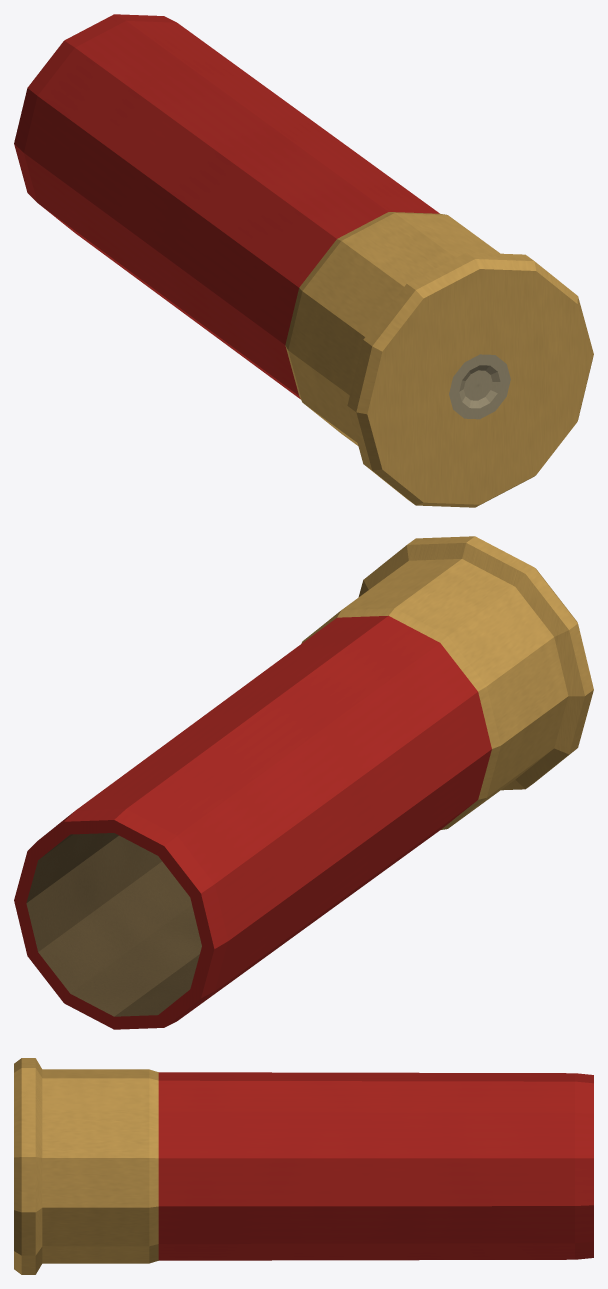
File: 12_shotgun_casing.glb
3 renders of one model, top to bottom at view 1: azimuth 30°, elevation 25°; view 2: azimuth 150°, elevation 25°; view 3: azimuth 270°, elevation 25°, orthographic. The views are drawn at different scales.
Parts seen in each view (by area): view 1: shotgun_casing; view 2: shotgun_casing; view 3: shotgun_casing.
Part boxes in pixels (x1=…): shotgun_casing: x1=14, y1=14, x2=593, y2=507; shotgun_casing: x1=14, y1=536, x2=593, y2=1029; shotgun_casing: x1=14, y1=1058, x2=593, y2=1274.
Bounding box in the file's own units: 0.023 × 0.023 × 0.0613.
Materials: 4 (4 with a texture image).
